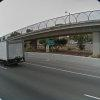Bridge: (7, 15, 97, 38)
